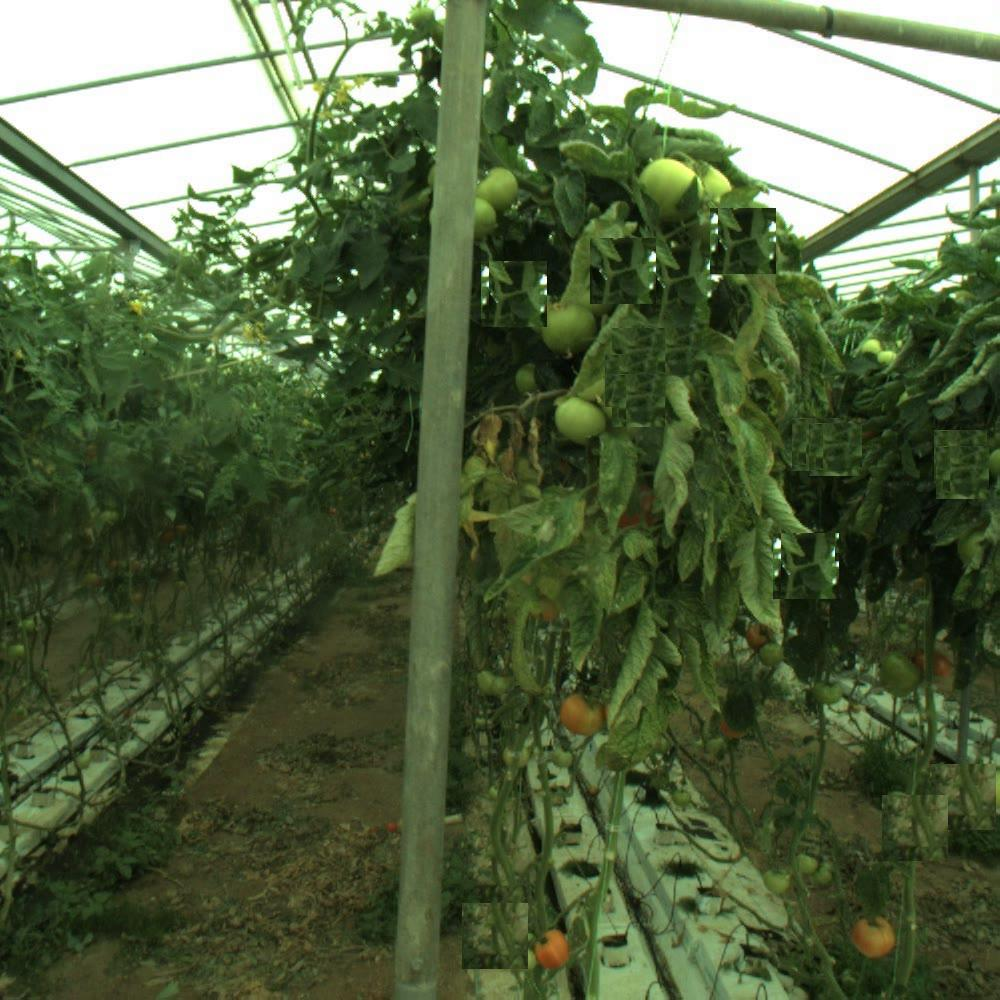fully-ripe: (561, 690, 605, 734), (852, 913, 896, 957), (534, 930, 570, 966)
unripe: (637, 154, 705, 222), (545, 303, 597, 355), (554, 391, 606, 443), (880, 652, 924, 696), (473, 165, 517, 209)
